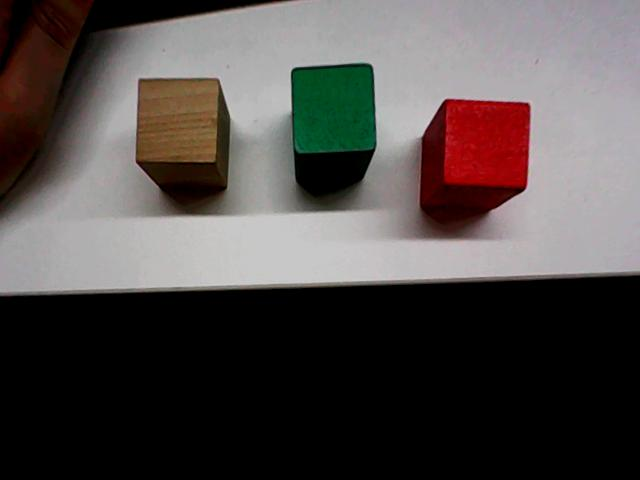green_box: (287, 59, 379, 186)
raw_box: (132, 73, 232, 193)
red_box: (416, 93, 534, 215)
